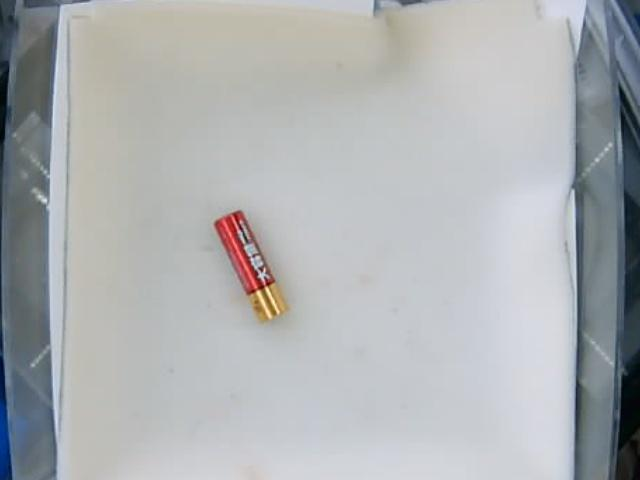Battery: (212, 208, 286, 317)
